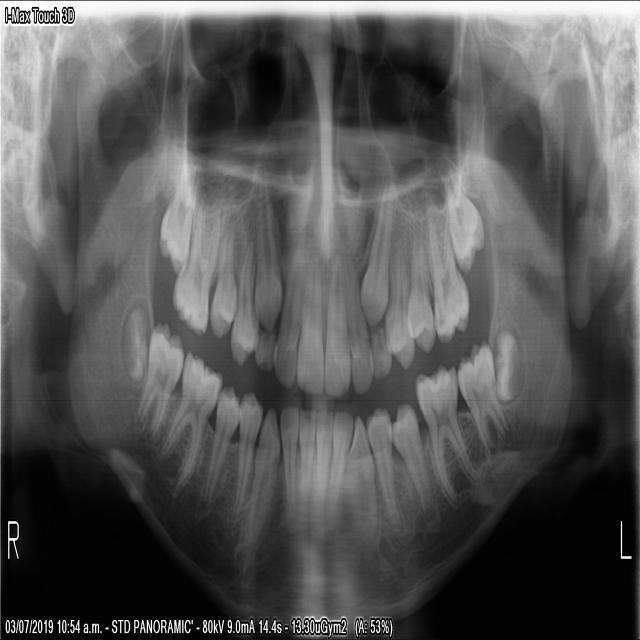LCD: (347, 411, 378, 544)
LCU: (360, 166, 393, 328)
LID: (327, 406, 353, 512), (311, 407, 332, 518)
LIU: (343, 241, 373, 398), (323, 249, 351, 400)
LMD: (411, 358, 482, 509), (455, 333, 513, 462), (493, 325, 523, 402)
LMU: (426, 212, 470, 346), (445, 175, 485, 275)
LPMD: (392, 397, 437, 521), (363, 403, 402, 528)
LPMU: (381, 217, 415, 371), (409, 212, 436, 356)
RCD: (241, 404, 278, 549)
RCU: (249, 163, 280, 376)
RID: (296, 403, 316, 530), (277, 402, 296, 522)
RIU: (270, 236, 305, 393), (294, 238, 324, 399)
RMD: (149, 346, 222, 503), (131, 316, 183, 441), (119, 300, 146, 385)
RMU: (169, 184, 221, 336), (155, 159, 197, 275)
RPMD: (221, 385, 262, 528), (195, 381, 237, 515)
RPMU: (207, 199, 235, 341), (227, 218, 253, 368)
